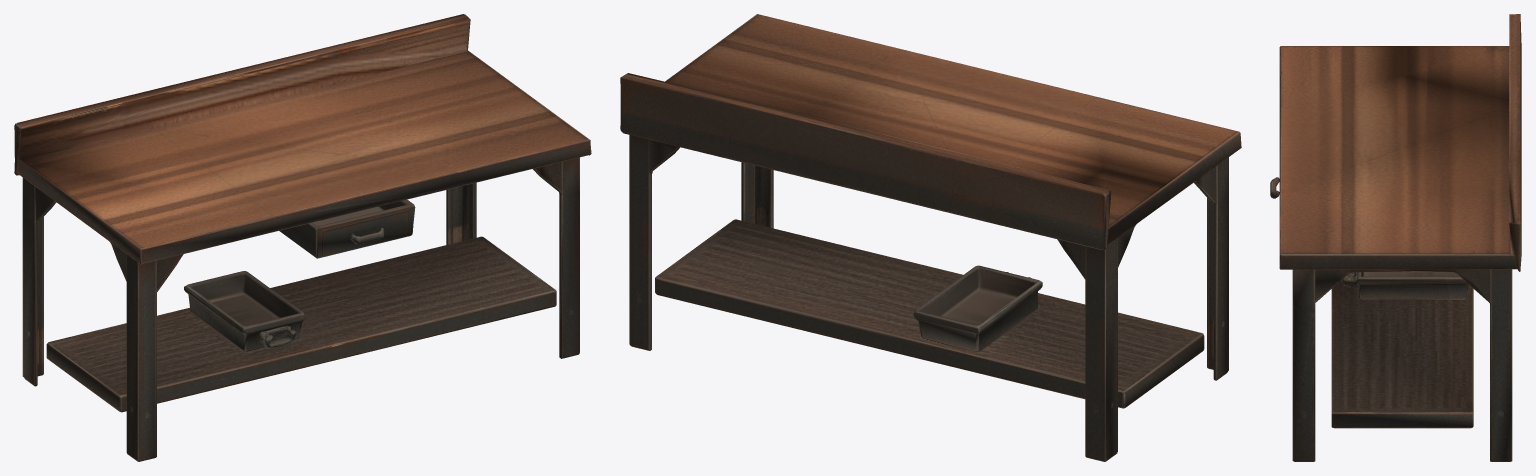
The model's file is Workbench.fbx.
3 renders of one model, left to right at view 1: azimuth 30°, elevation 25°; view 2: azimuth 150°, elevation 25°; view 3: azimuth 270°, elevation 25°, orthographic. The views are drawn at different scales.
Parts seen in each view (by area): view 1: mesh_node; view 2: mesh_node; view 3: mesh_node.
Boxes of the visible parts, box(x1,y1,x2,y2) form: mesh_node: box(14, 14, 591, 461); mesh_node: box(620, 14, 1241, 461); mesh_node: box(1270, 14, 1521, 461).
Bounding box in the file's own units: 191 × 102 × 96.28.
1 material, 1 textured.
